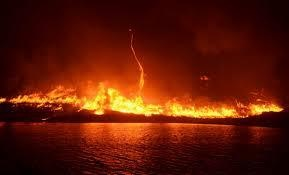fire: (4, 61, 274, 120)
